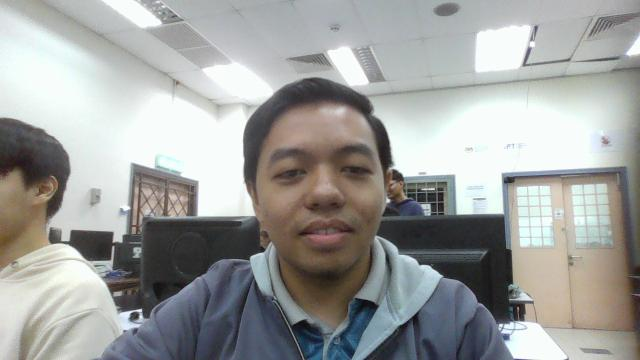senang: (224, 76, 410, 291)
